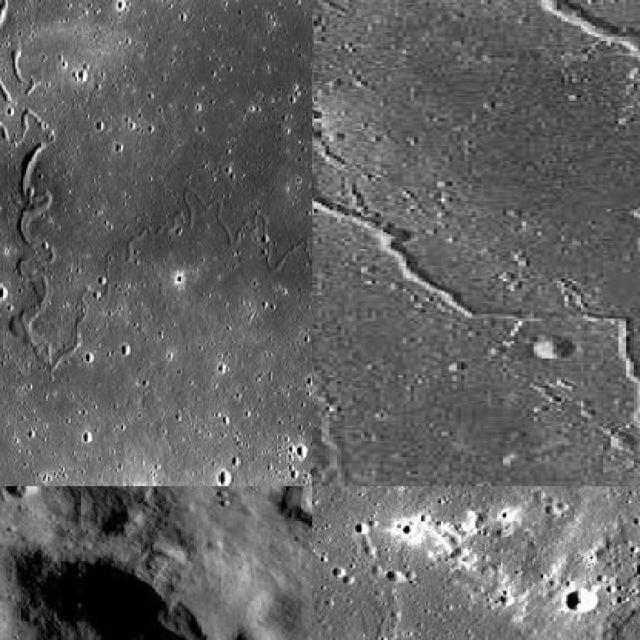rille: (312, 150, 638, 484), (440, 0, 638, 426), (14, 142, 311, 370), (209, 486, 311, 639), (372, 590, 638, 638)
